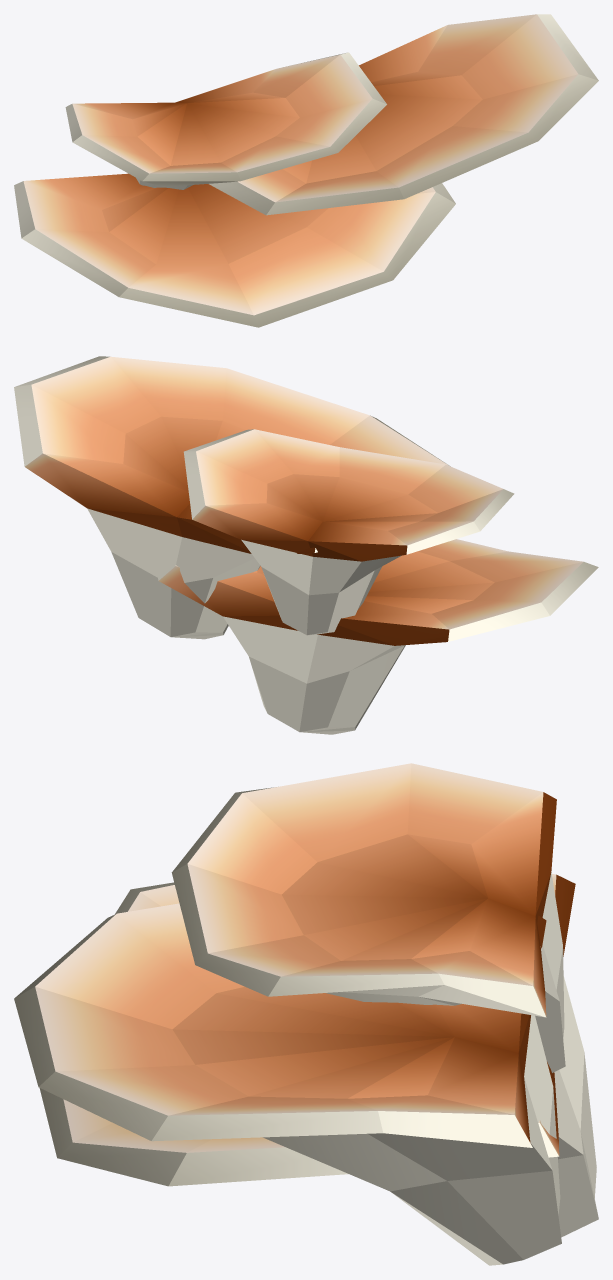
File: MushroomTree-05.FBX
3 renders of one model, top to bottom at view 1: azimuth 30°, elevation 25°; view 2: azimuth 150°, elevation 25°; view 3: azimuth 270°, elevation 25°, orthographic. The views are drawn at different scales.
Visible parts, largest first — view 1: MushroomTree-05; view 2: MushroomTree-05; view 3: MushroomTree-05.
Part boxes in pixels (left/top/right/bottom): MushroomTree-05: left=14, top=14, right=598, bottom=327; MushroomTree-05: left=14, top=356, right=598, bottom=734; MushroomTree-05: left=14, top=763, right=598, bottom=1265.
Bounding box in the file's own units: 110 × 46.2 × 60.12.
1 material, 1 textured.
